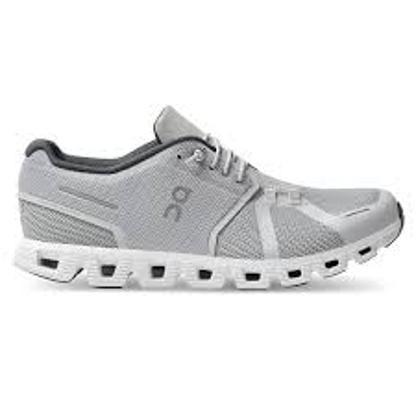not trash: (20, 104, 403, 284)
